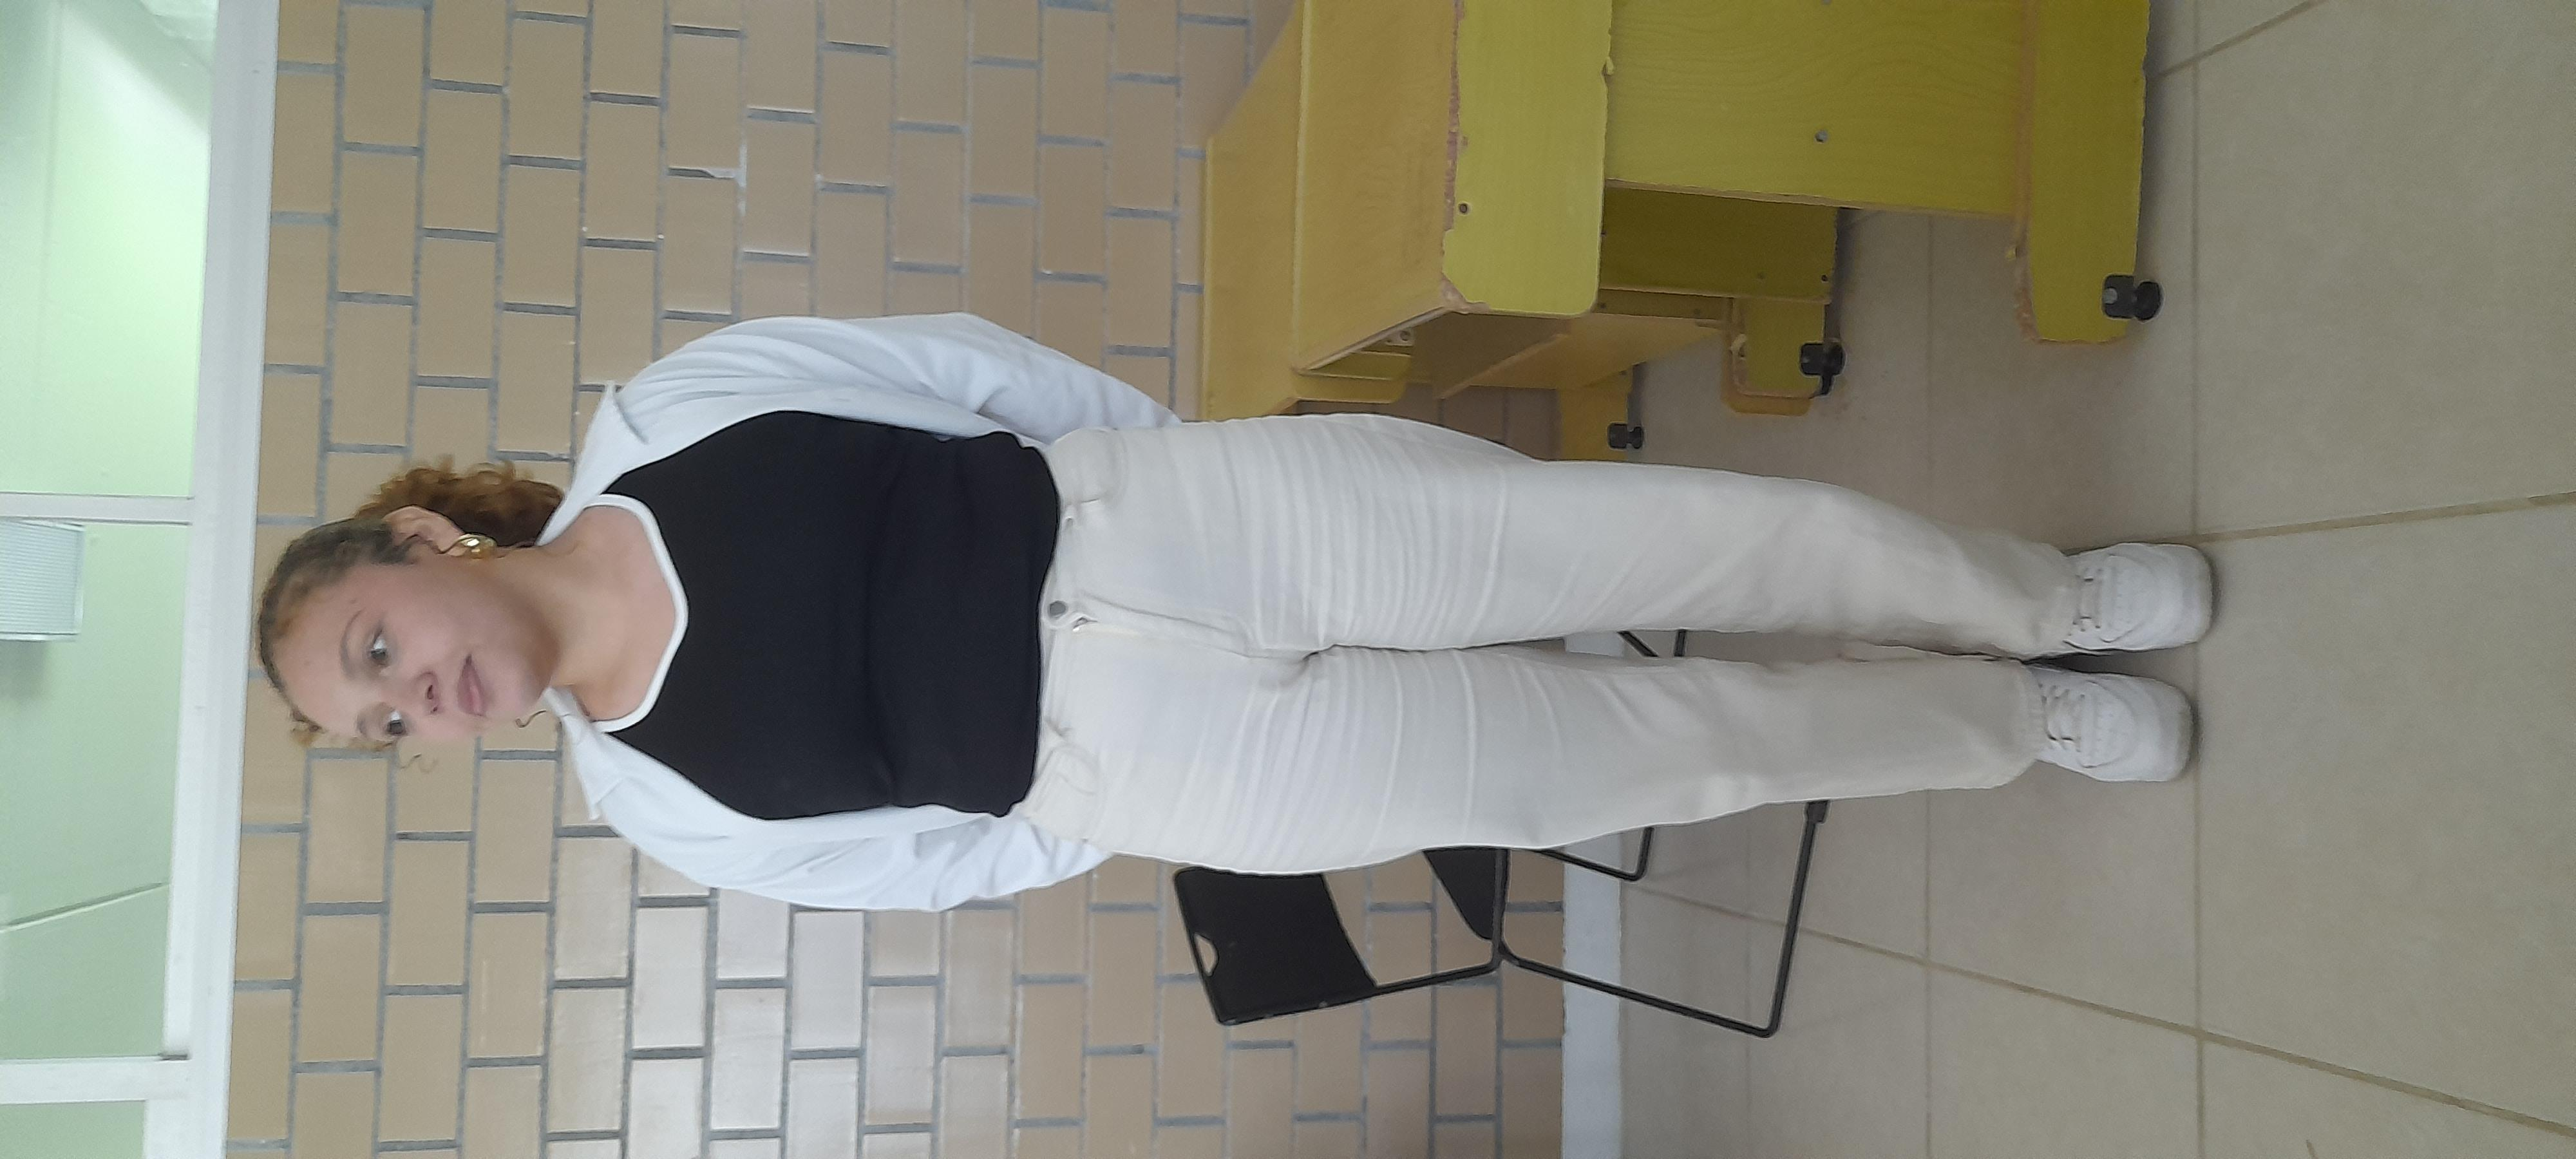Bata-Incorrecta: (258, 84, 2060, 1026)
